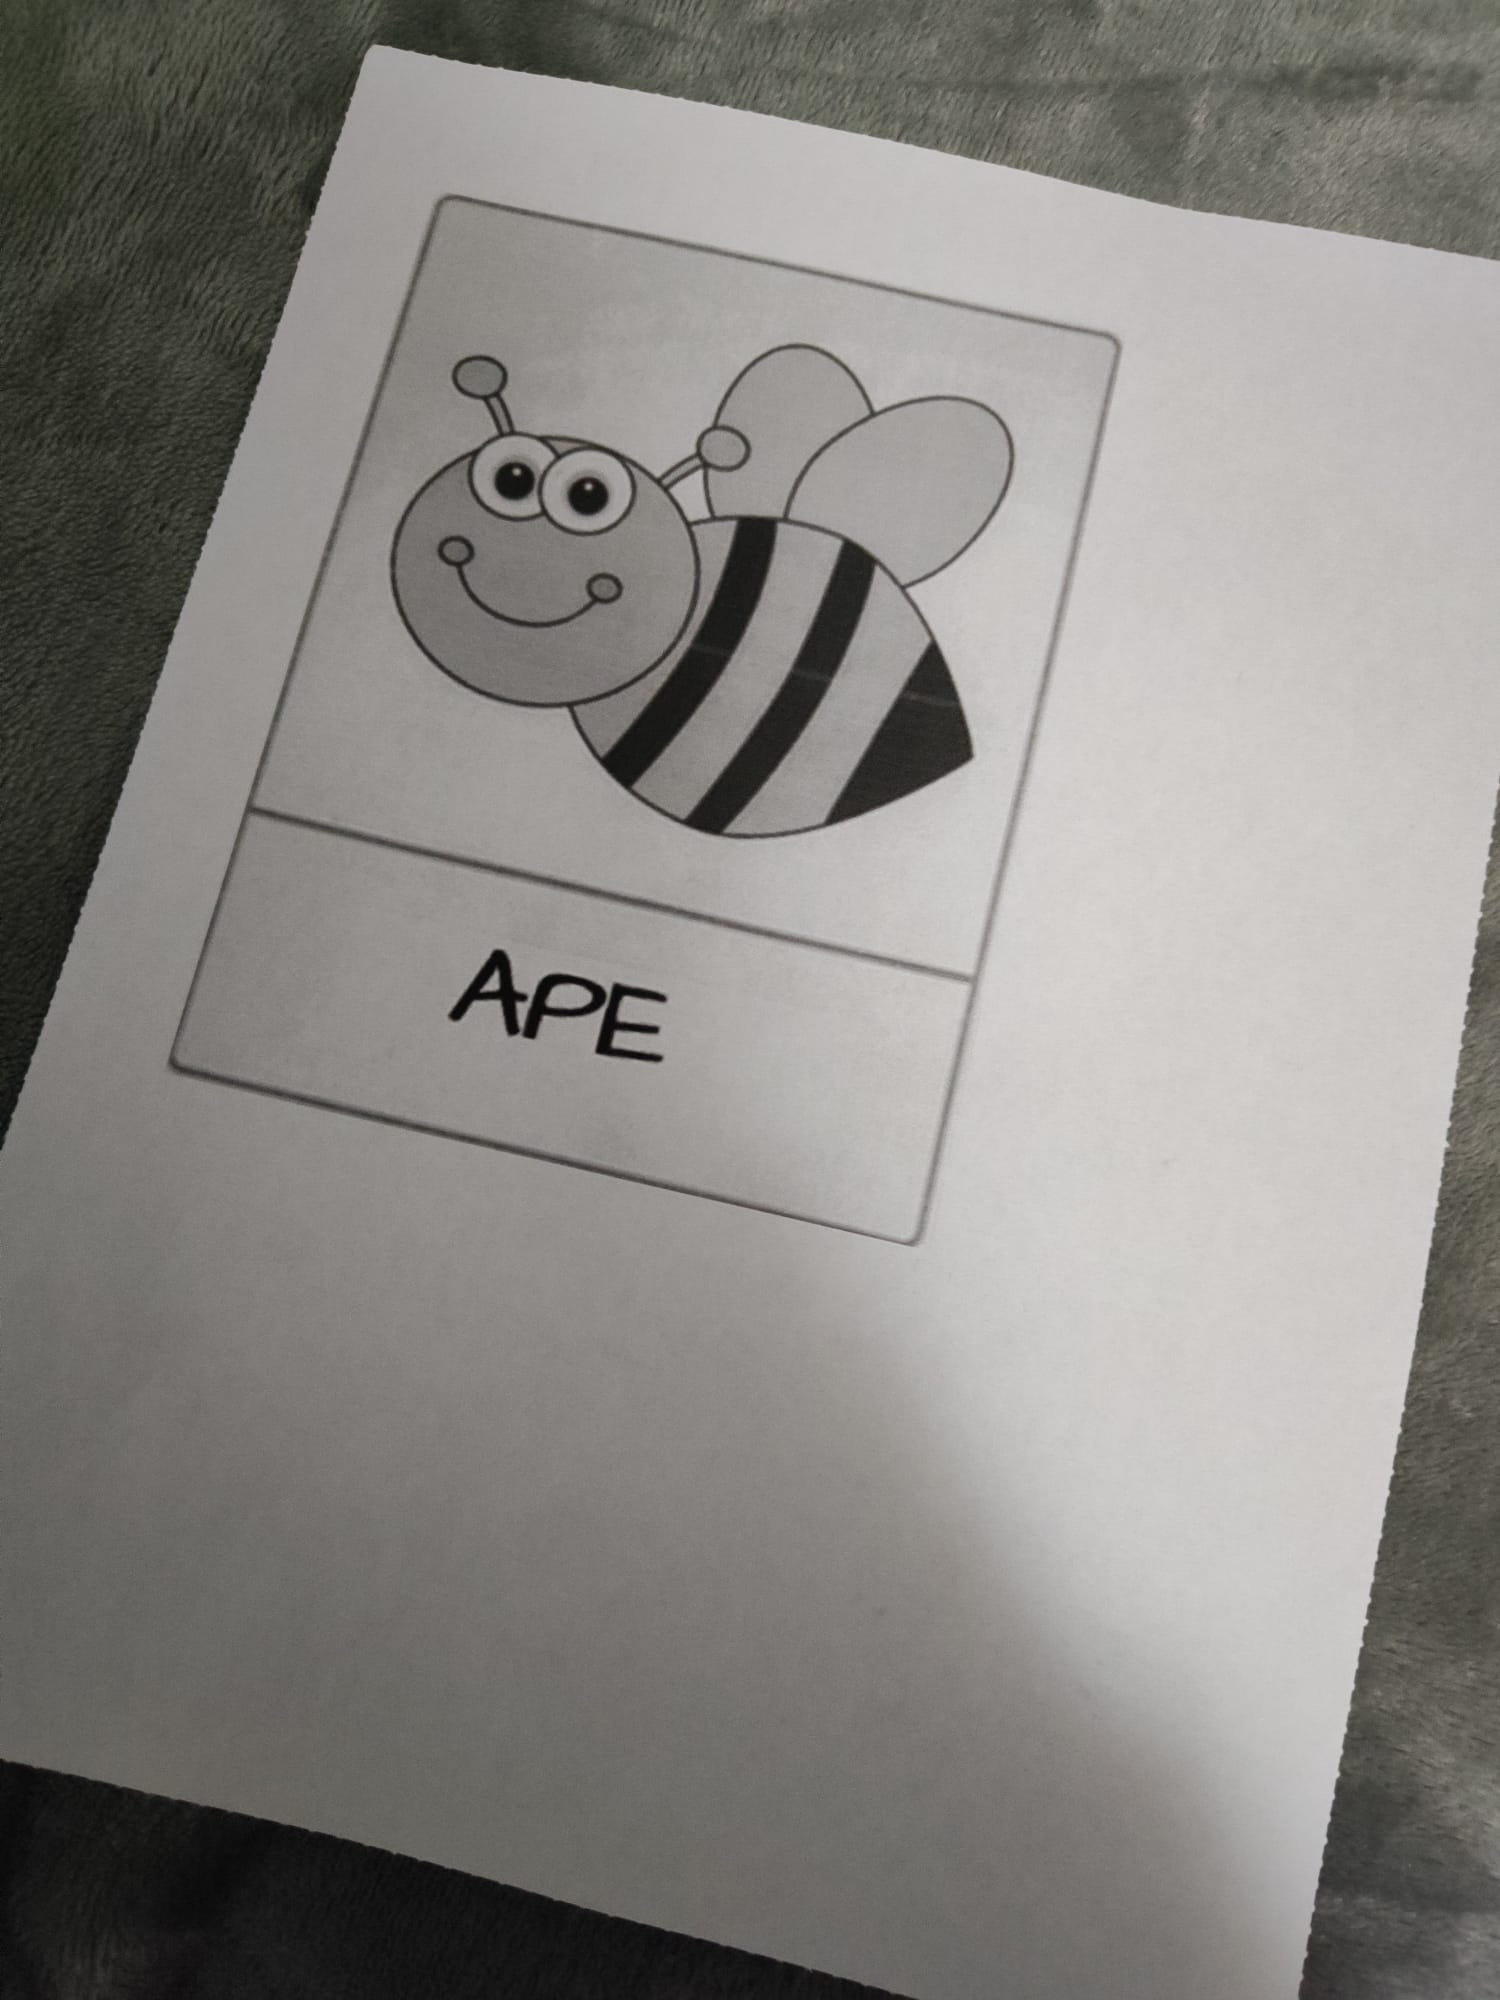ape: (373, 193, 1050, 1223)
